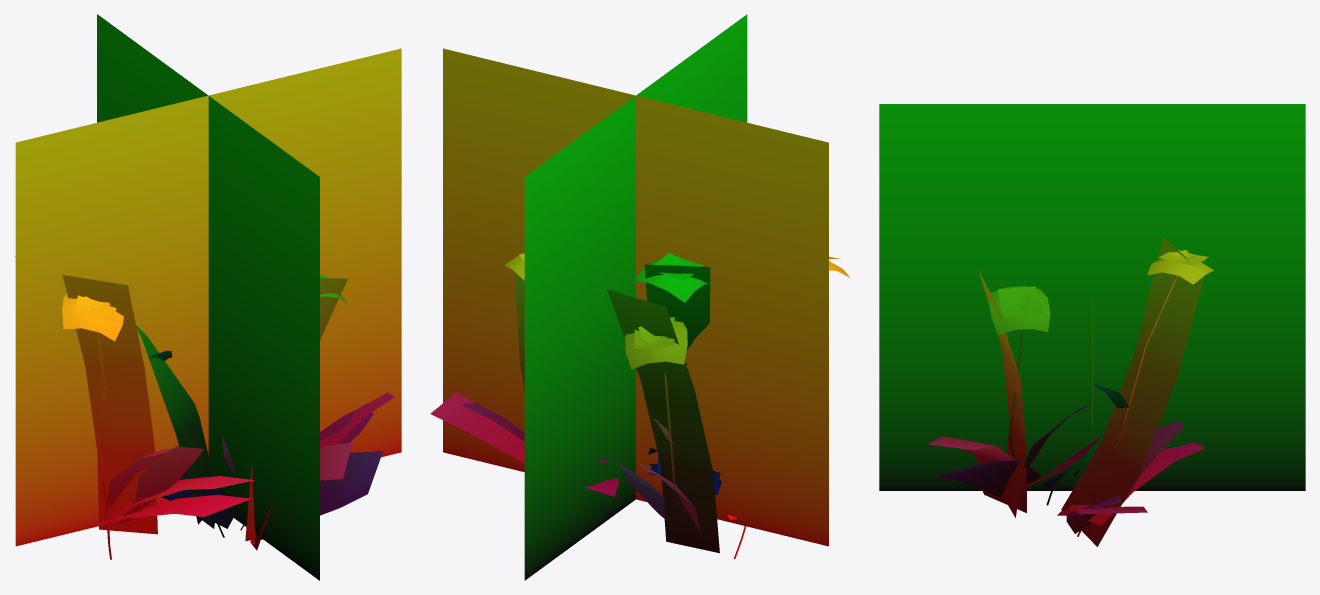
File: MSH_Field_DandelionFlower_A.FBX
The picture shows the model from 3 angles, left to right: view 1: azimuth 30°, elevation 25°; view 2: azimuth 150°, elevation 25°; view 3: azimuth 270°, elevation 25°; orthographic projection. The views are drawn at different scales.
Parts seen in each view (by area): view 1: Field_DandelionFlower_A_LOD2_GEO, Field_DandelionFlower_A_LOD1_GEO, Field_DandelionFlower_A_LOD0_GEO; view 2: Field_DandelionFlower_A_LOD2_GEO, Field_DandelionFlower_A_LOD1_GEO, Field_DandelionFlower_A_LOD0_GEO; view 3: Field_DandelionFlower_A_LOD2_GEO, Field_DandelionFlower_A_LOD1_GEO, Field_DandelionFlower_A_LOD0_GEO.
Boxes of the visible parts, x1,y1,x2,y2 form: Field_DandelionFlower_A_LOD2_GEO: (15,14,401,580); Field_DandelionFlower_A_LOD1_GEO: (62,275,373,550); Field_DandelionFlower_A_LOD0_GEO: (15,256,394,559); Field_DandelionFlower_A_LOD2_GEO: (443,14,828,580); Field_DandelionFlower_A_LOD1_GEO: (460,264,720,553); Field_DandelionFlower_A_LOD0_GEO: (430,253,850,558); Field_DandelionFlower_A_LOD2_GEO: (879,104,1305,490); Field_DandelionFlower_A_LOD1_GEO: (928,237,1204,546); Field_DandelionFlower_A_LOD0_GEO: (931,250,1213,536).
Bounding box in the file's own units: 74.82 × 81.43 × 74.82.
